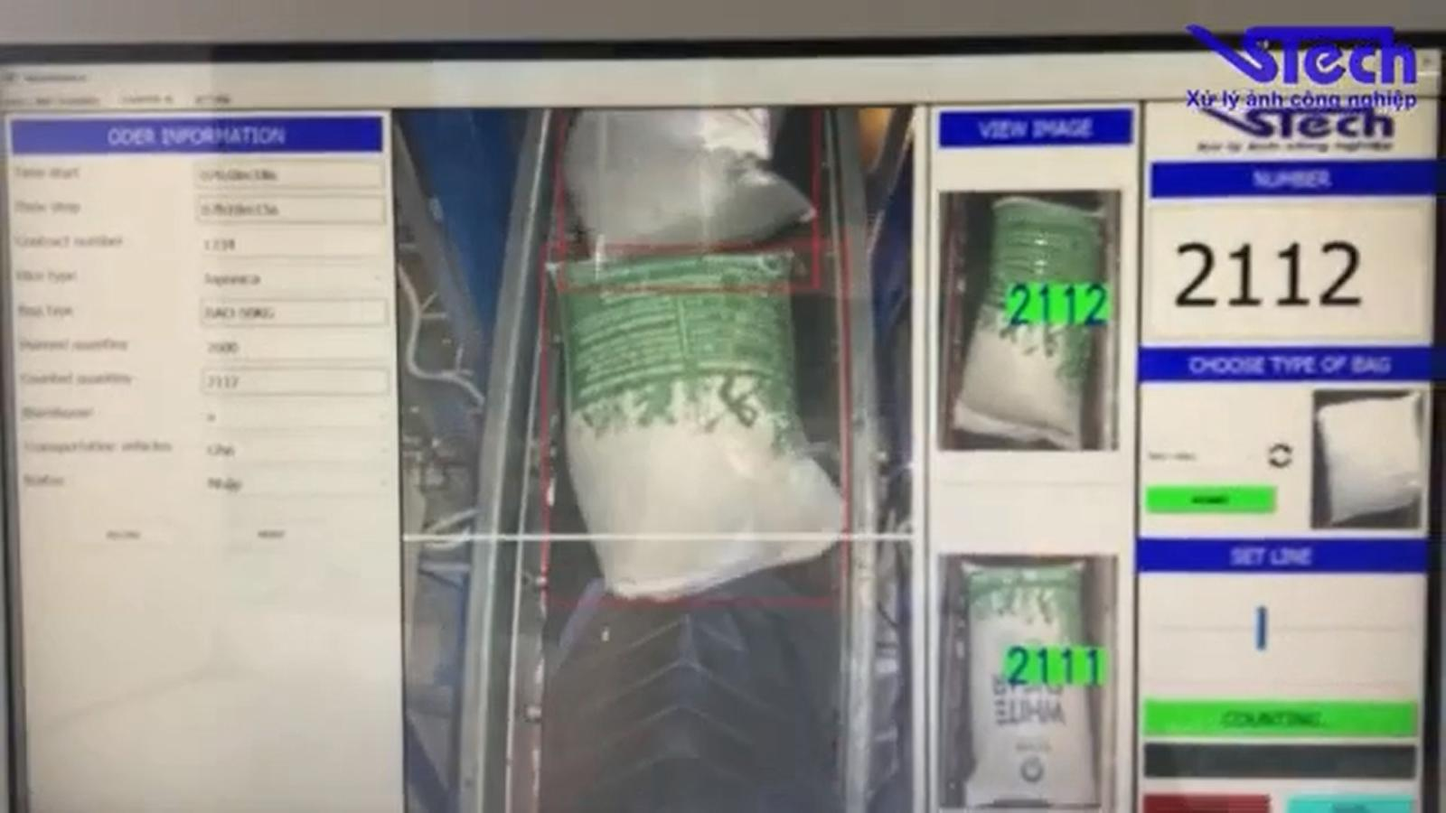rice-bag: (549, 252, 840, 595), (952, 197, 1103, 449), (562, 107, 815, 257), (962, 561, 1096, 806)
